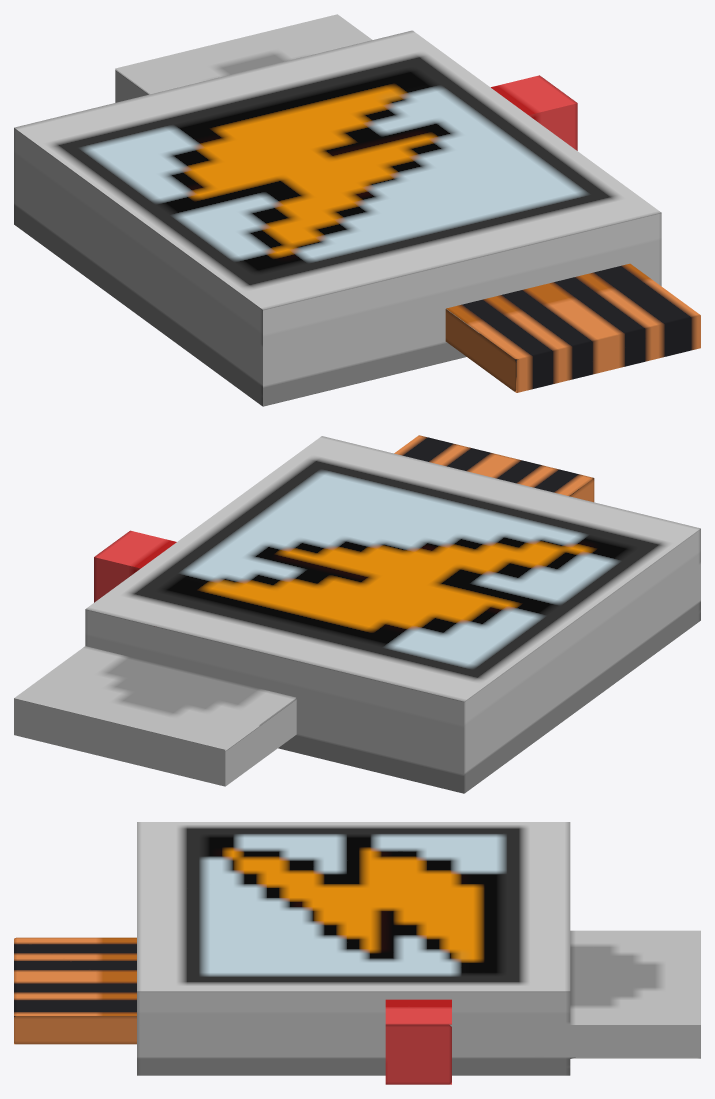
The model's file is Shock Charger.fbx.
3 views of the same model, one above another, from view 1: azimuth 30°, elevation 25°; view 2: azimuth 150°, elevation 25°; view 3: azimuth 270°, elevation 25° (orthographic). The views are drawn at different scales.
Parts seen in each view (by area): view 1: pCube19, pCube20, pCube21; view 2: pCube19, pCube20, pCube21; view 3: pCube19, pCube20, pCube21.
Part boxes in pixels (bbox=[...]): pCube19: bbox=[14, 14, 661, 406]; pCube20: bbox=[445, 263, 700, 392]; pCube21: bbox=[491, 75, 577, 150]; pCube19: bbox=[14, 436, 700, 793]; pCube20: bbox=[394, 435, 594, 502]; pCube21: bbox=[94, 530, 176, 602]; pCube19: bbox=[137, 822, 700, 1075]; pCube20: bbox=[14, 937, 136, 1044]; pCube21: bbox=[385, 999, 451, 1084].
Size of the model in its own units: 1.06 by 0.2147 by 1.59.
